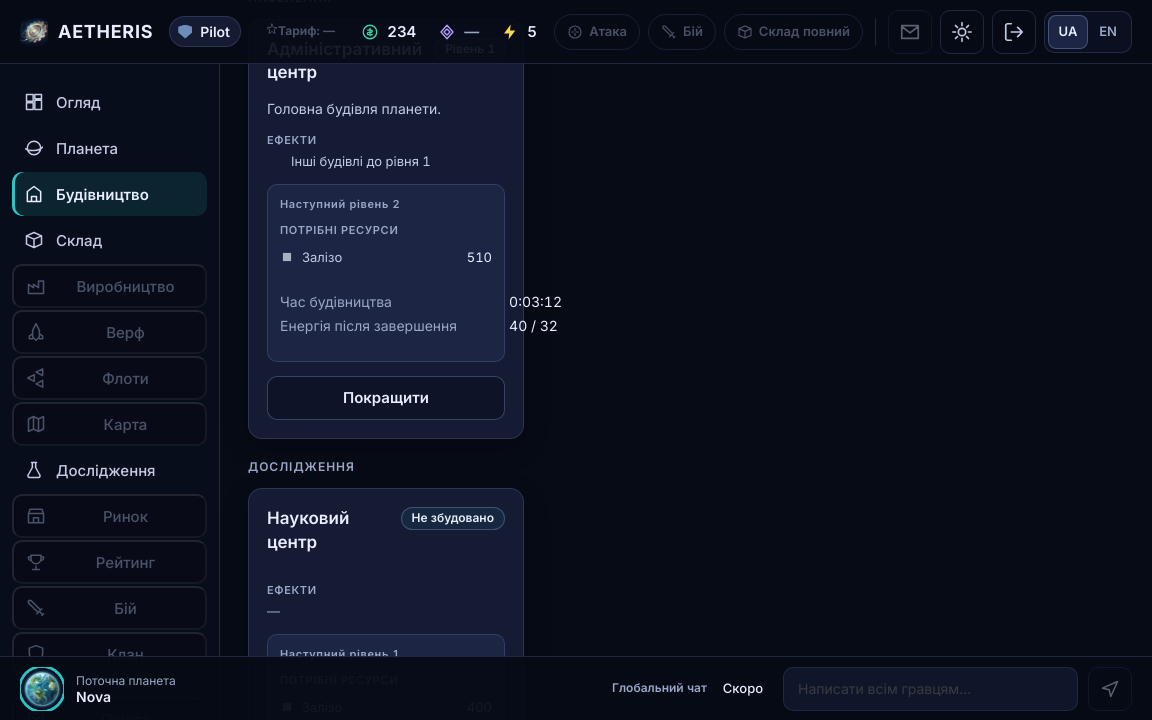
Scenario: BuildPage: the screen of the construction (task 00020) › shows the reason the server refused
(page scrolled)
Click the button "Покращити" at (386, 398), box [267, 376, 505, 420]
(page scrolled)
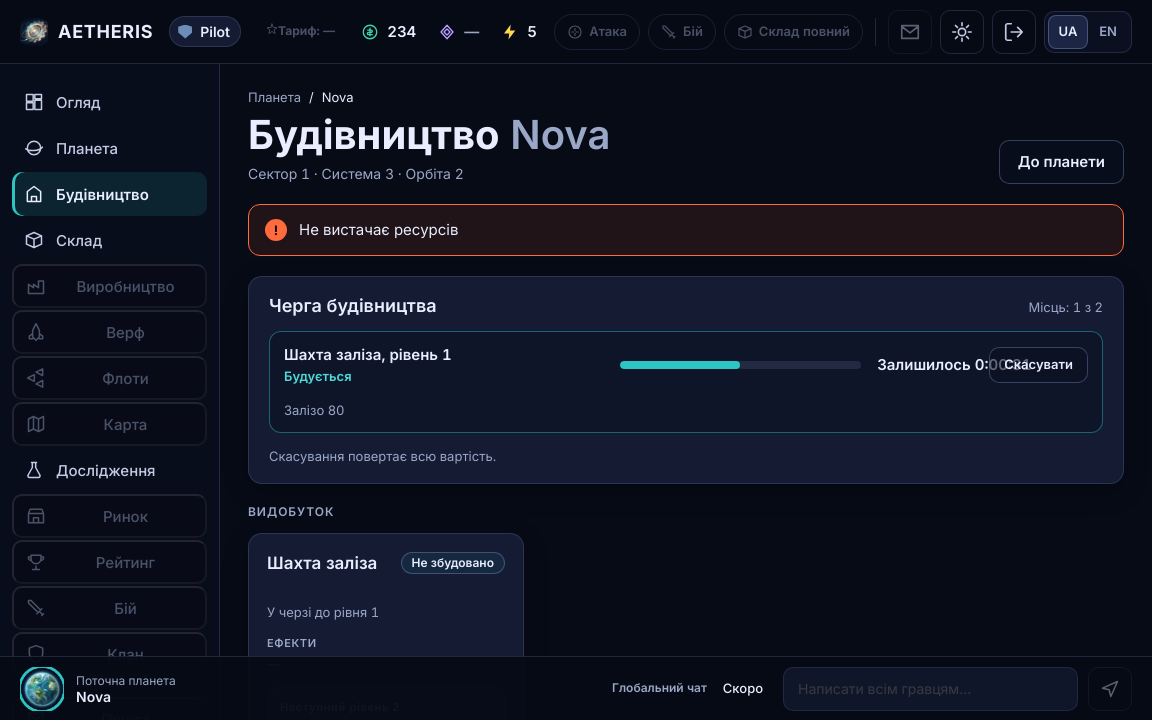
Expected: the text "Не вистачає ресурсів" is shown, [299, 219, 458, 240]
